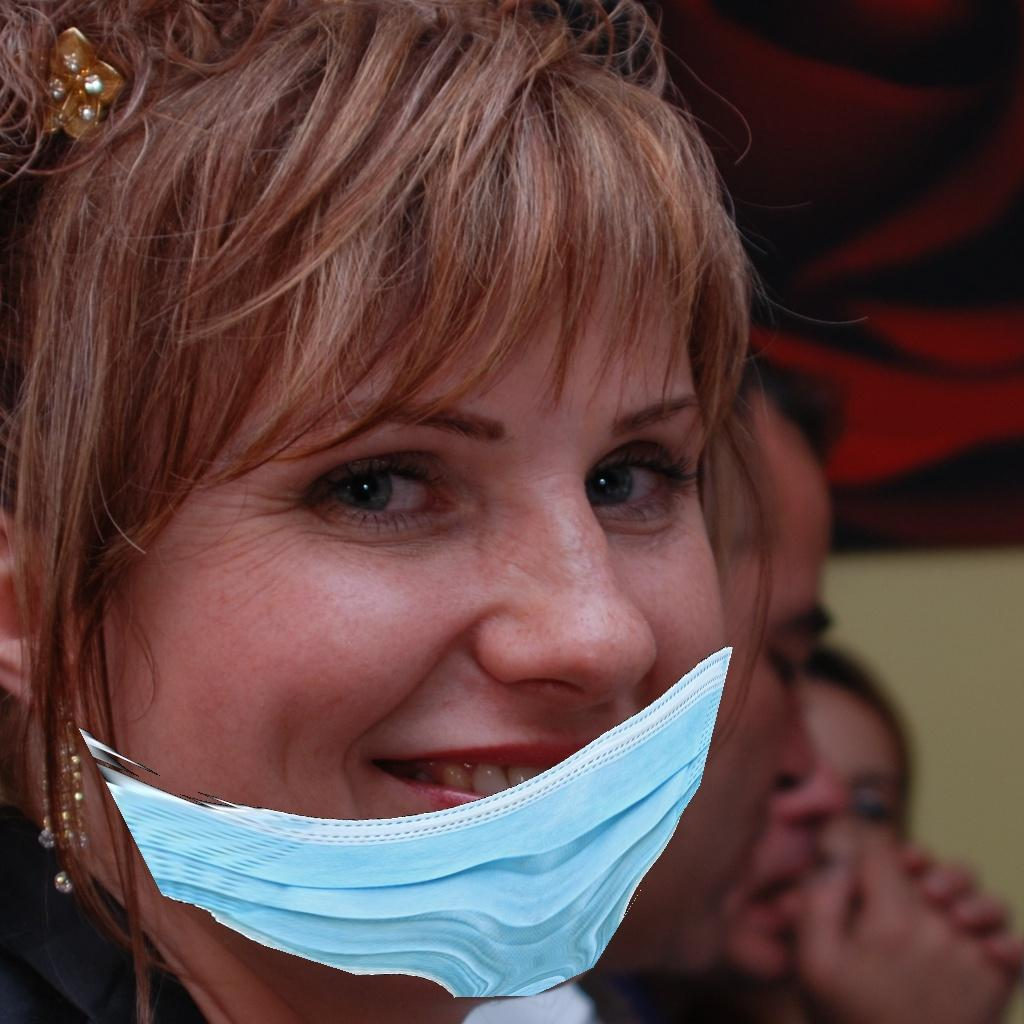Máscara Incorreta: (118, 315, 722, 973)
Sem Máscara: (646, 462, 859, 979)
